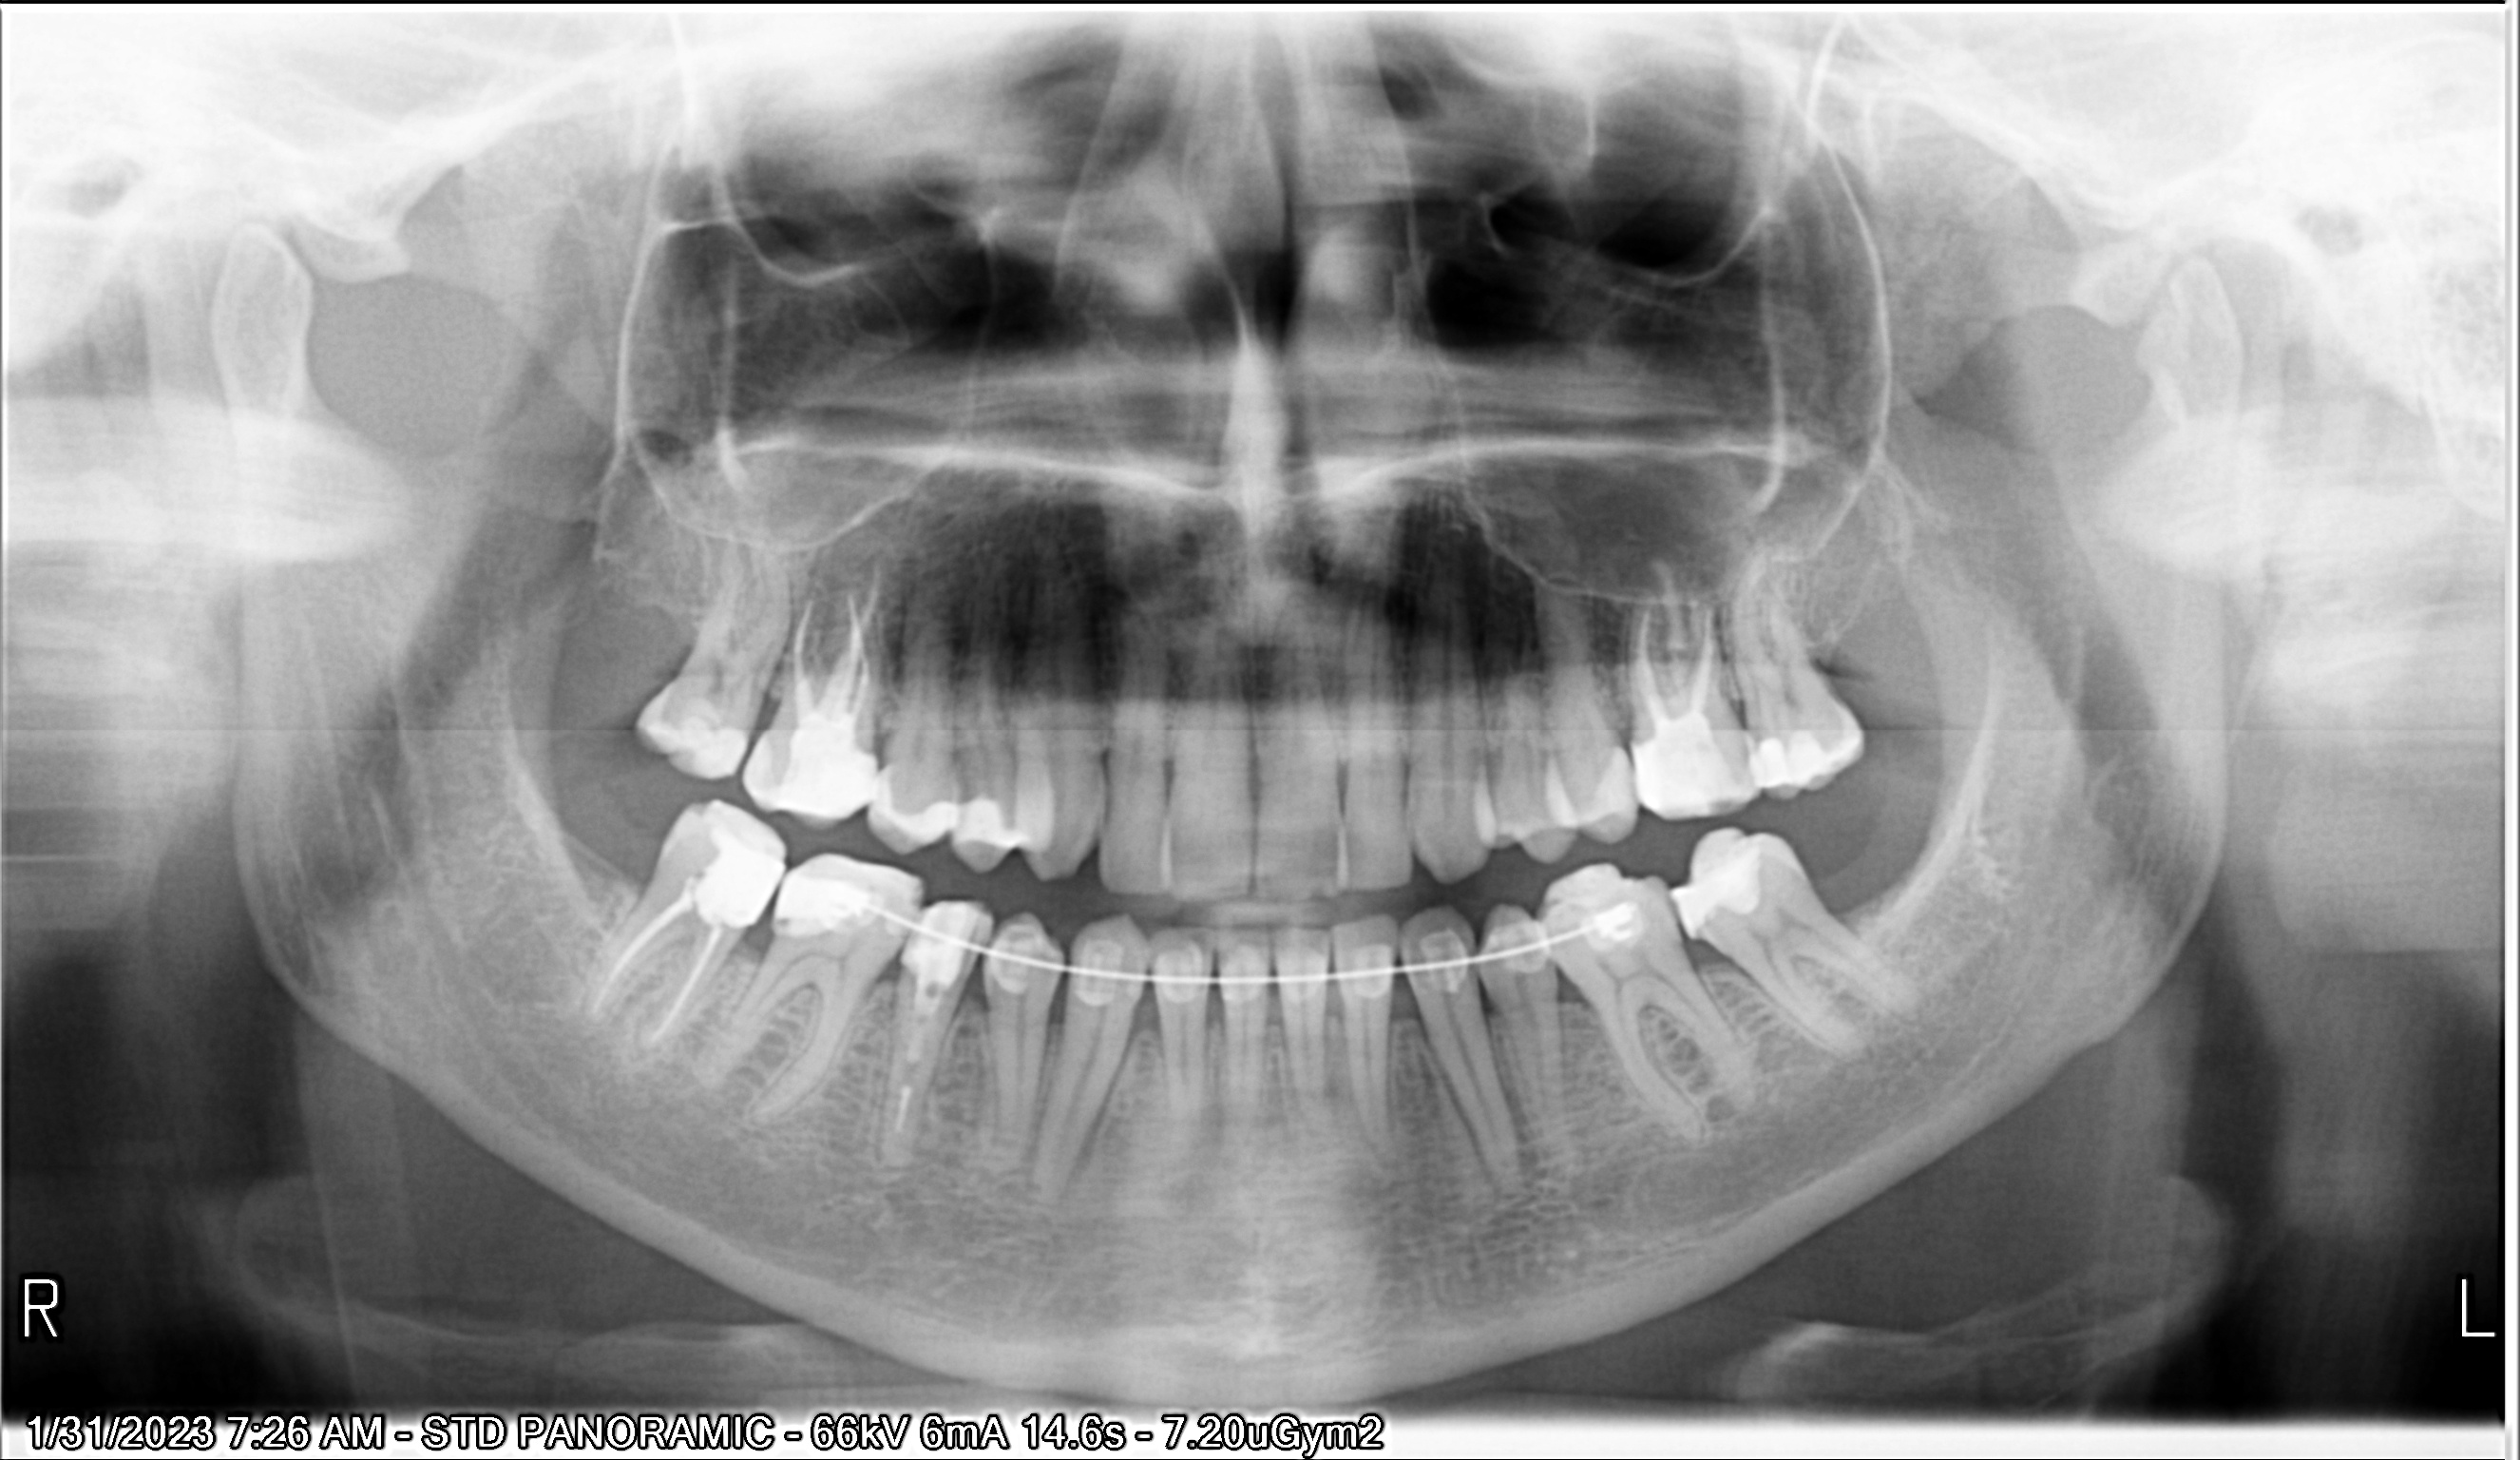END: (1610, 546, 1737, 732), (783, 544, 910, 718), (884, 1017, 945, 1163)
OBT: (755, 716, 905, 824), (1667, 829, 1777, 952), (1622, 714, 1751, 819), (683, 805, 766, 959), (1744, 713, 1848, 817), (660, 690, 762, 791), (943, 780, 1026, 857), (893, 782, 978, 848)
ORD: (752, 848, 1725, 1032)
